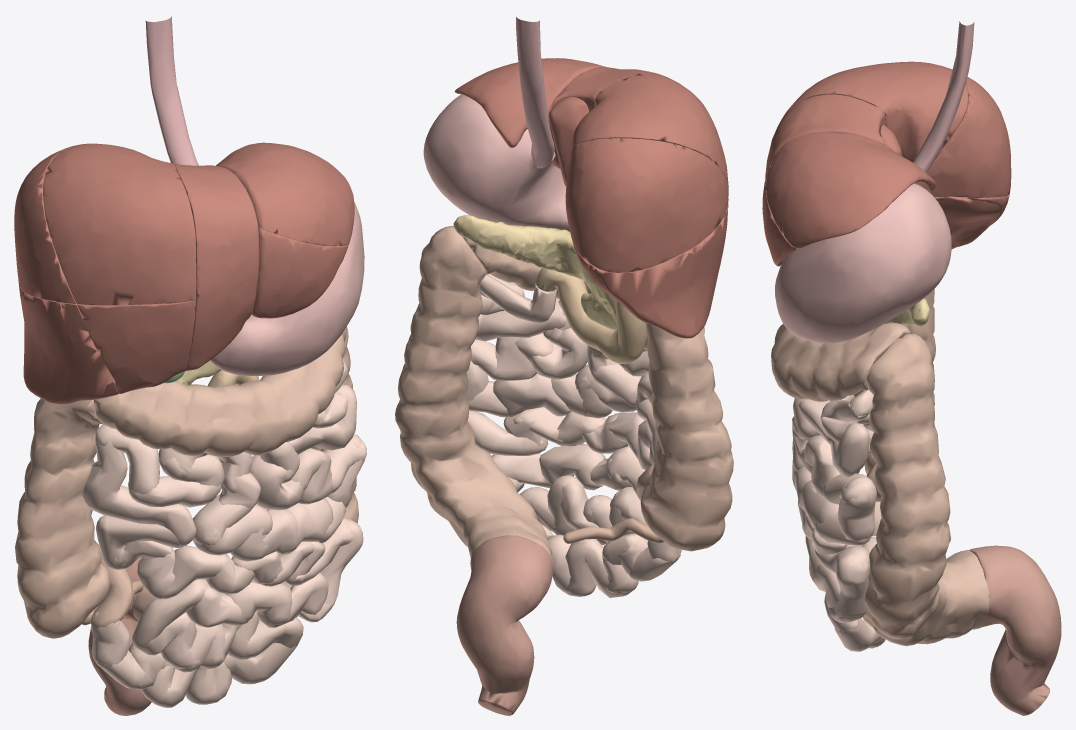
The model's file is digestive.glb.
The picture shows the model from 3 angles, left to right: view 1: azimuth 30°, elevation 25°; view 2: azimuth 150°, elevation 25°; view 3: azimuth 270°, elevation 25°; orthographic projection. The views are drawn at different scales.
Visible parts, largest first — view 1: liver, small_intestine, large_intestine, stomach, oesophagus, rectum; view 2: liver, large_intestine, small_intestine, stomach, rectum, pancreas, duodenum, oesophagus, appendix; view 3: liver, large_intestine, stomach, small_intestine, rectum, oesophagus, pancreas.
Boxes of the visible parts, x1=… form: liver: x1=14, y1=142, x2=354, y2=404; small_intestine: x1=82, y1=360, x2=366, y2=707; large_intestine: x1=15, y1=327, x2=358, y2=638; stomach: x1=210, y1=202, x2=364, y2=375; oesophagus: x1=145, y1=16, x2=198, y2=165; rectum: x1=88, y1=557, x2=151, y2=715; liver: x1=454, y1=58, x2=728, y2=338; large_intestine: x1=395, y1=226, x2=733, y2=574; small_intestine: x1=465, y1=274, x2=681, y2=597; stomach: x1=423, y1=94, x2=569, y2=231; rectum: x1=456, y1=535, x2=552, y2=715; pancreas: x1=453, y1=215, x2=617, y2=330; duodenum: x1=535, y1=268, x2=647, y2=363; oesophagus: x1=516, y1=17, x2=554, y2=168; appendix: x1=563, y1=518, x2=664, y2=543; liver: x1=762, y1=61, x2=1011, y2=266; large_intestine: x1=771, y1=289, x2=989, y2=646; stomach: x1=775, y1=183, x2=951, y2=343; small_intestine: x1=792, y1=390, x2=885, y2=651; rectum: x1=969, y1=545, x2=1061, y2=715; oesophagus: x1=913, y1=21, x2=974, y2=172; pancreas: x1=884, y1=298, x2=929, y2=326.
Bounding box in the file's own units: 0.2441 × 0.4896 × 0.1911.
